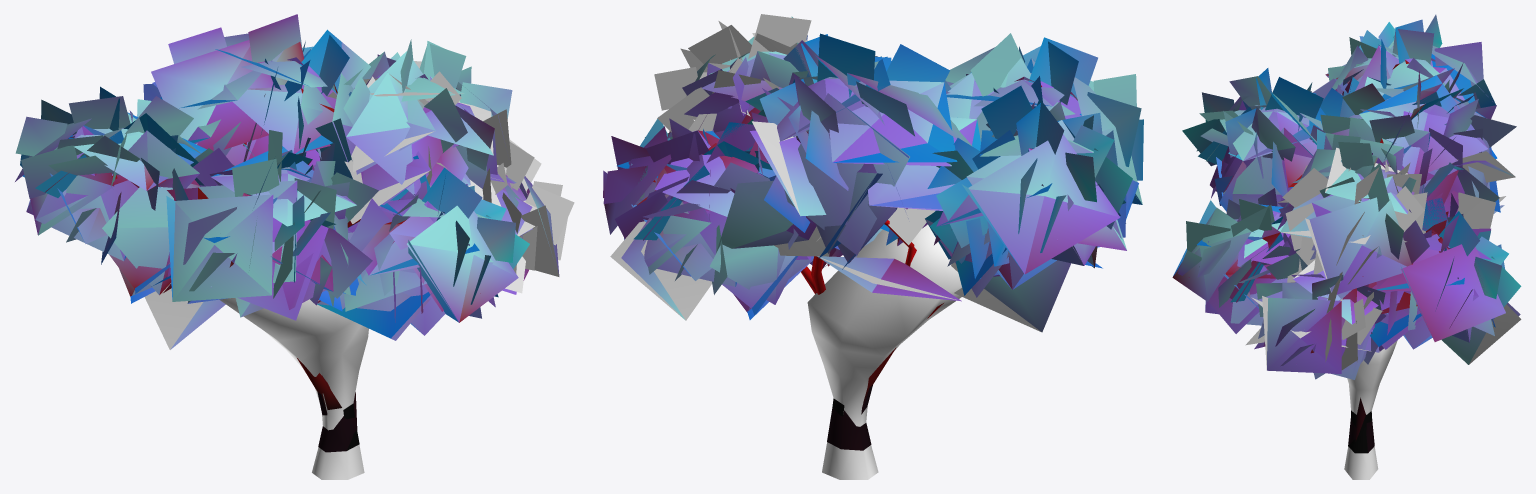
File: oak_a.dae
3 views of the same model, side by side, from view 1: azimuth 30°, elevation 25°; view 2: azimuth 150°, elevation 25°; view 3: azimuth 270°, elevation 25° (orthographic). The views are drawn at different scales.
Visible parts, largest first — view 1: oak_a_a700, oak_a_a340, Colmesh-1; view 2: oak_a_a700, oak_a_a340, Colmesh-1; view 3: oak_a_a700, oak_a_a340, Colmesh-1.
Part boxes in pixels (x1,y1,x2,y2): oak_a_a700: [15, 14, 559, 450]; oak_a_a340: [20, 29, 574, 452]; Colmesh-1: [219, 298, 368, 479]; oak_a_a700: [603, 16, 1142, 416]; oak_a_a340: [610, 14, 1143, 450]; Colmesh-1: [807, 224, 961, 479]; oak_a_a700: [1172, 29, 1520, 453]; oak_a_a340: [1173, 14, 1521, 452]; Colmesh-1: [1344, 340, 1397, 479].
Bounding box in the file's own units: 12.1 × 8.41 × 10.14.
